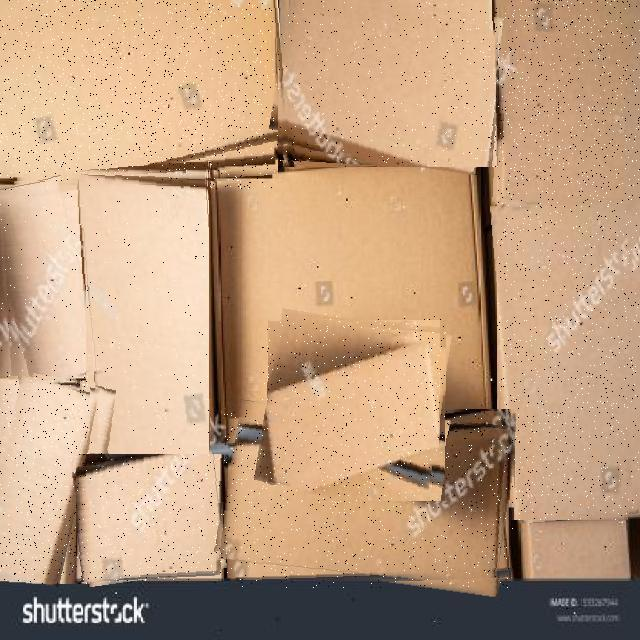BoxFace: (0, 0, 278, 189), (224, 409, 516, 588), (497, 196, 640, 520), (273, 0, 498, 167), (79, 172, 209, 454), (262, 314, 446, 501), (494, 0, 640, 206), (76, 454, 226, 583), (0, 375, 90, 584), (0, 181, 86, 384)
